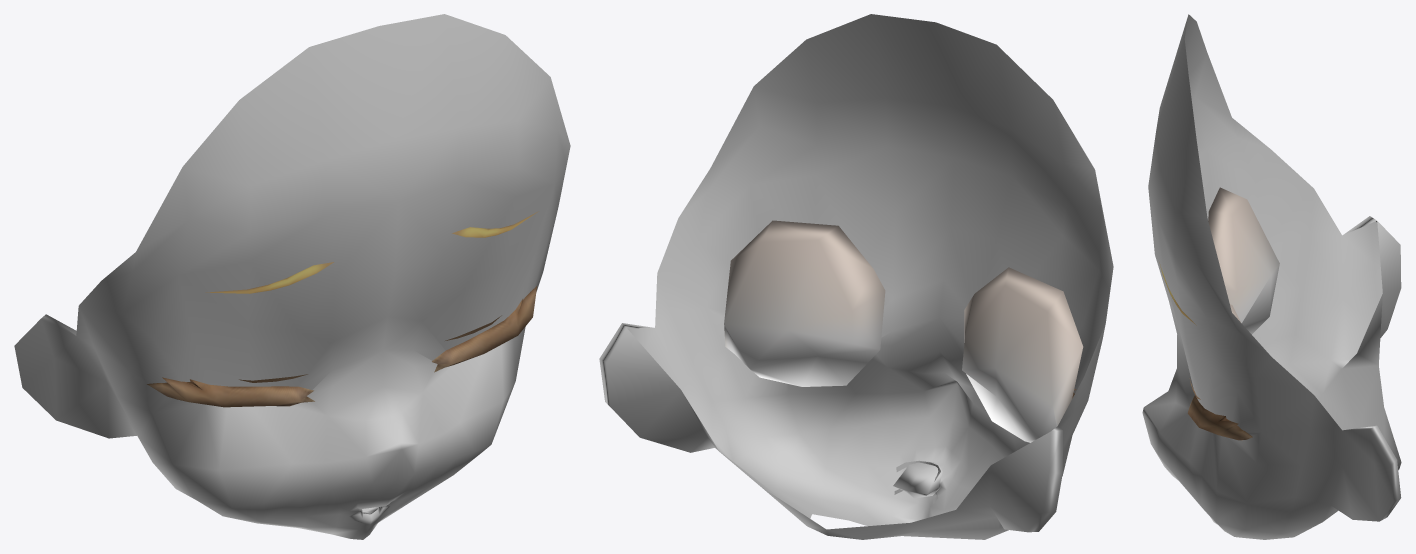
The picture shows the model from 3 angles, left to right: view 1: azimuth 30°, elevation 25°; view 2: azimuth 150°, elevation 25°; view 3: azimuth 270°, elevation 25°; orthographic projection. The views are drawn at different scales.
Parts seen in each view (by area): view 1: Face_01; view 2: Face_01; view 3: Face_01.
Boxes of the visible parts, x1,y1,x2,y2 form: Face_01: [14, 14, 570, 539]; Face_01: [599, 14, 1113, 539]; Face_01: [1142, 14, 1401, 539].
Size of the model in its own units: 28.07 by 28.25 by 13.66.
